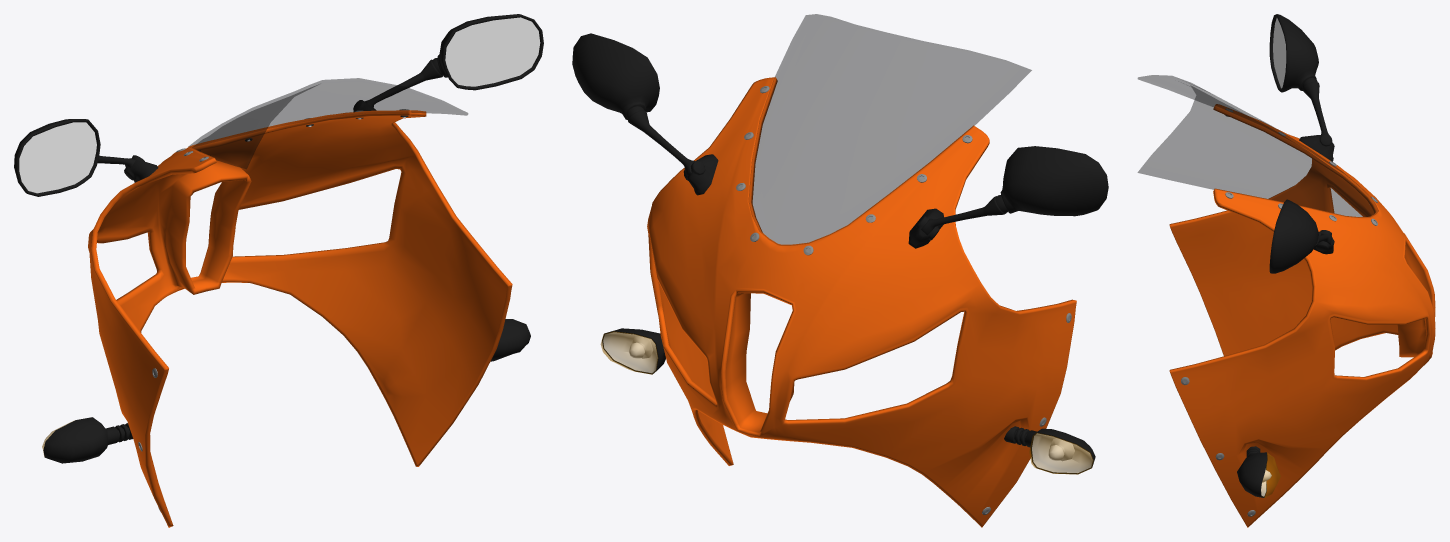
Rendered from nose_section.dae.
The picture shows the model from 3 angles, left to right: view 1: azimuth 30°, elevation 25°; view 2: azimuth 150°, elevation 25°; view 3: azimuth 270°, elevation 25°; orthographic projection. The views are drawn at different scales.
Parts seen in each view (by area): view 1: nose, mirror_glass, windscreen, mirror, front_turn_signal; view 2: nose, windscreen, mirror, turn_signal_lens, reflector, front_turn_signal; view 3: nose, windscreen, mirror, front_turn_signal, mirror_glass, turn_signal_lens.
Boxes of the visible parts, x1,y1,x2,y2 form: nose: (88, 110, 512, 527); mirror_glass: (19, 17, 540, 193); windscreen: (188, 78, 467, 168); mirror: (14, 14, 543, 196); front_turn_signal: (43, 319, 530, 463); nose: (647, 77, 1076, 527); windscreen: (749, 14, 1031, 245); mirror: (572, 33, 1108, 248); turn_signal_lens: (600, 331, 1093, 474); reflector: (603, 332, 1092, 472); front_turn_signal: (602, 328, 1095, 474); nose: (1169, 104, 1435, 527); windscreen: (1138, 75, 1378, 217); mirror: (1269, 14, 1334, 273); front_turn_signal: (1237, 446, 1267, 497); mirror_glass: (1273, 18, 1286, 88); turn_signal_lens: (1261, 453, 1280, 497).
Size of the model in its own units: 73.24 by 58.22 by 41.25.
